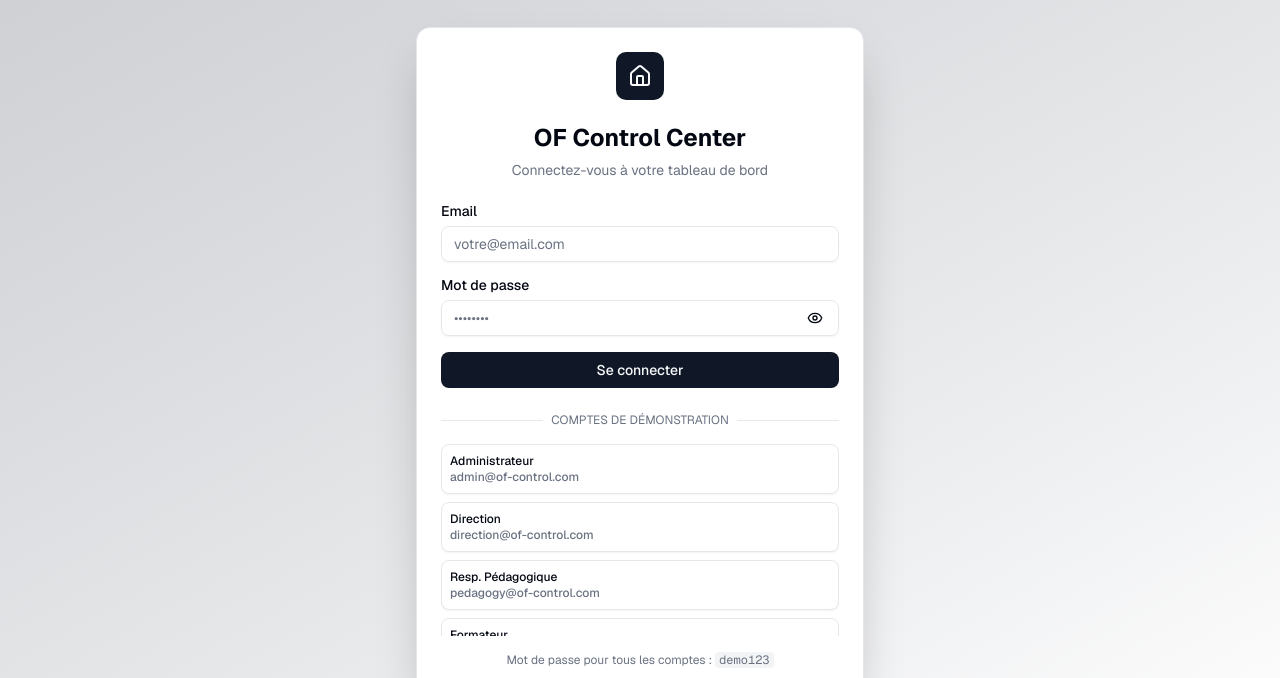
Scenario: LoginForm › shows error message for invalid credentials
The width and height of the screenshot is (1280, 678).
Type "wrong@email.com" into the field labelled "Email".
click(640, 244); type("wrong@email.com")  # box [441, 226, 839, 262]
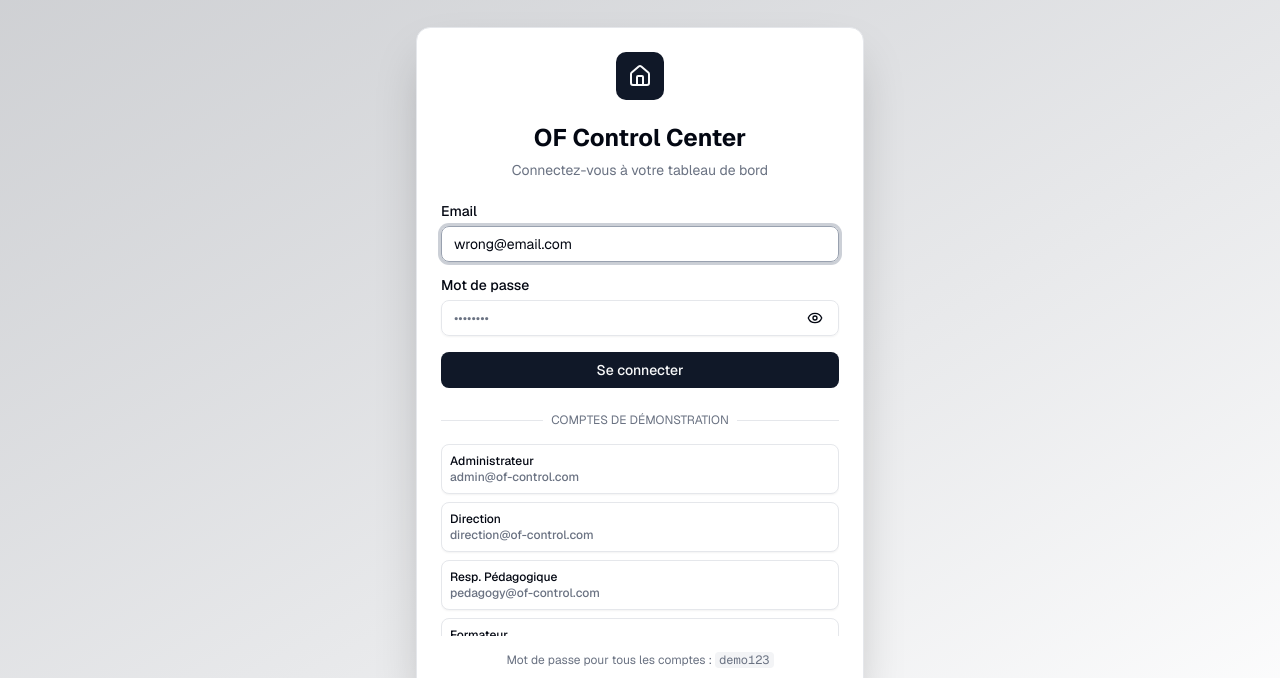
Type "wrongpassword" into the password field labelled "Mot de passe".
click(640, 318); type("wrongpassword")  # box [441, 300, 839, 336]
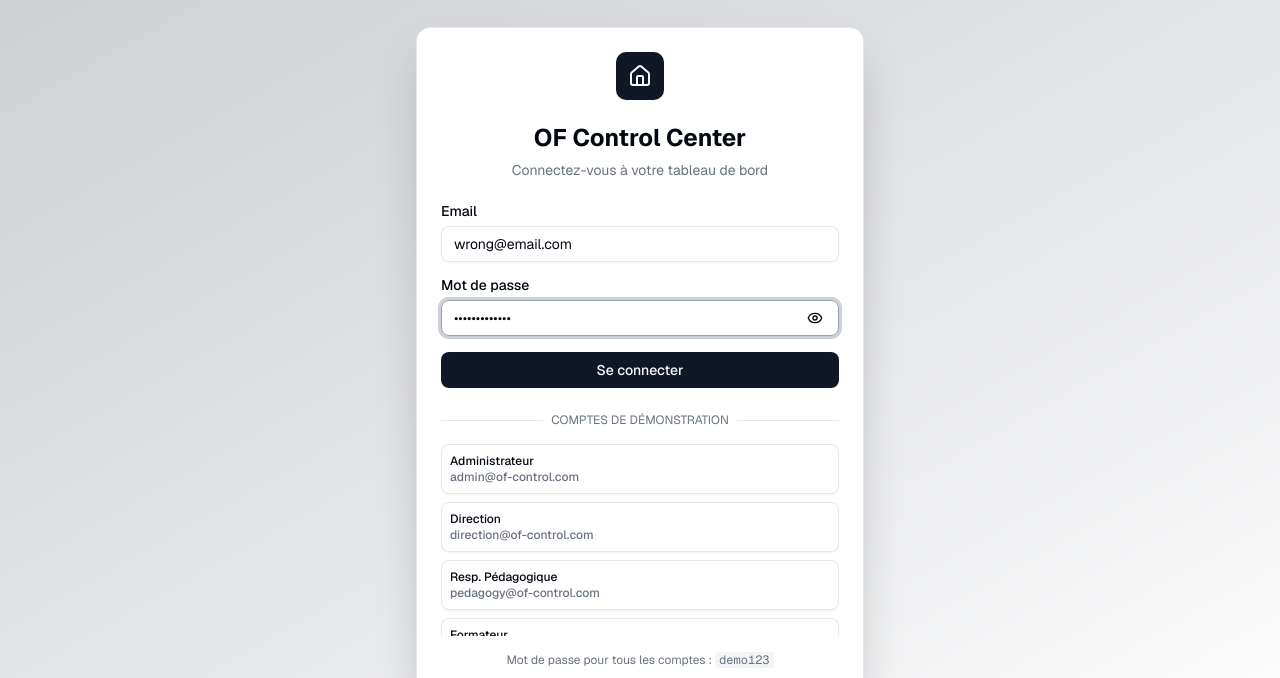
Click the button "Se connecter".
click(640, 370)  # box [441, 352, 839, 388]
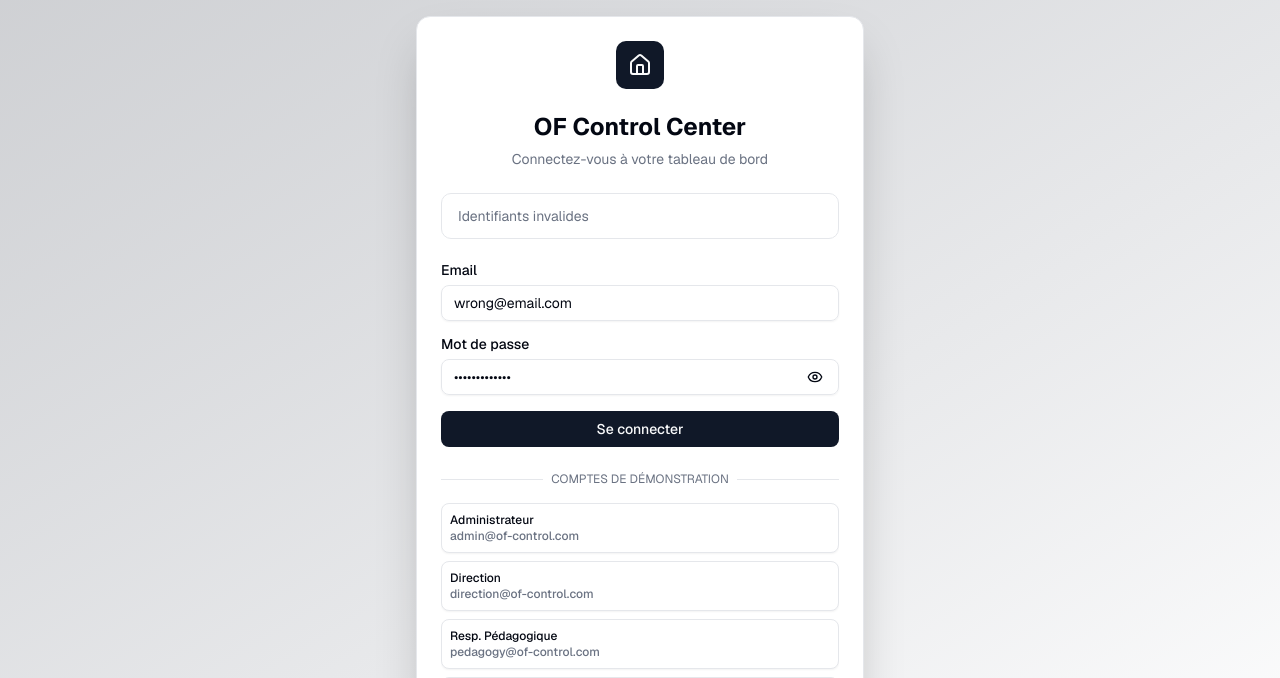
expect the text "Identifiants invalides" is shown: met, box [458, 207, 589, 225]
